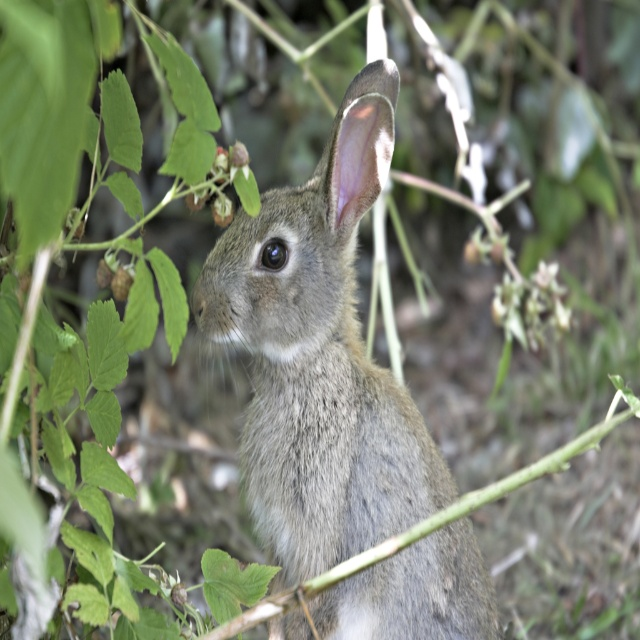Rabbit: (189, 58, 499, 640)
